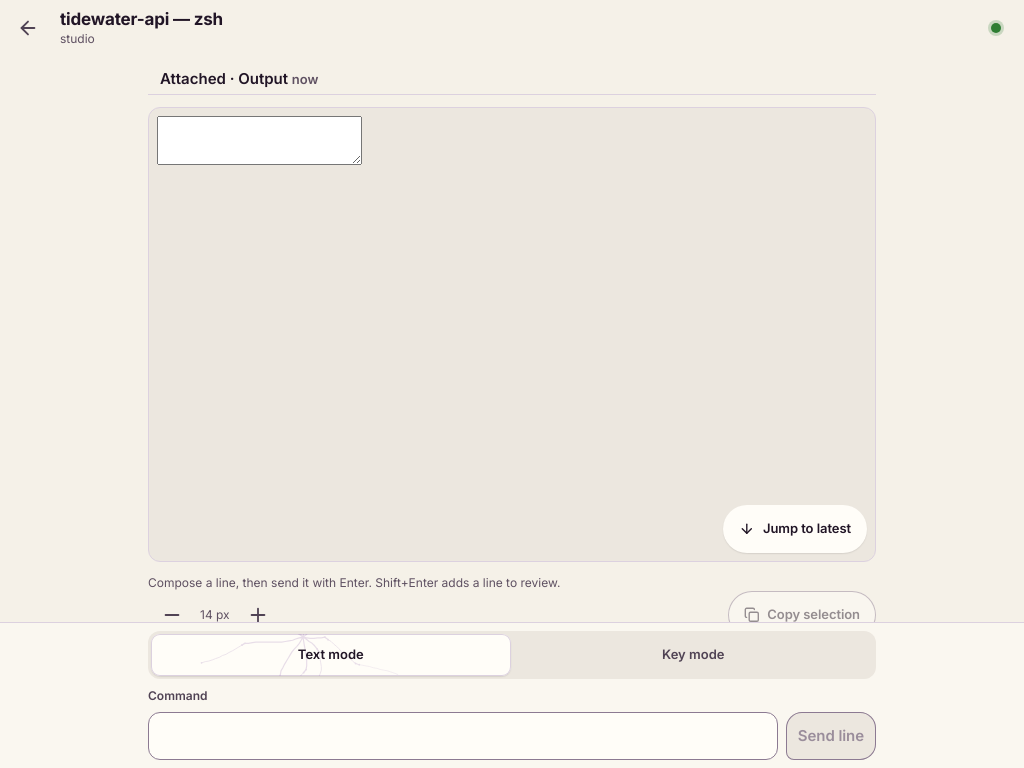
Scenario: the output follows new rows unless the person scrolled back to read, and Jump to latest returns to them
What coordinates should you click on to do the following:
click the button "Jump to latest"
I would click on:
 (795, 529)
Its box is x1=723 y1=505 x2=867 y2=553.
Wait 300 ms
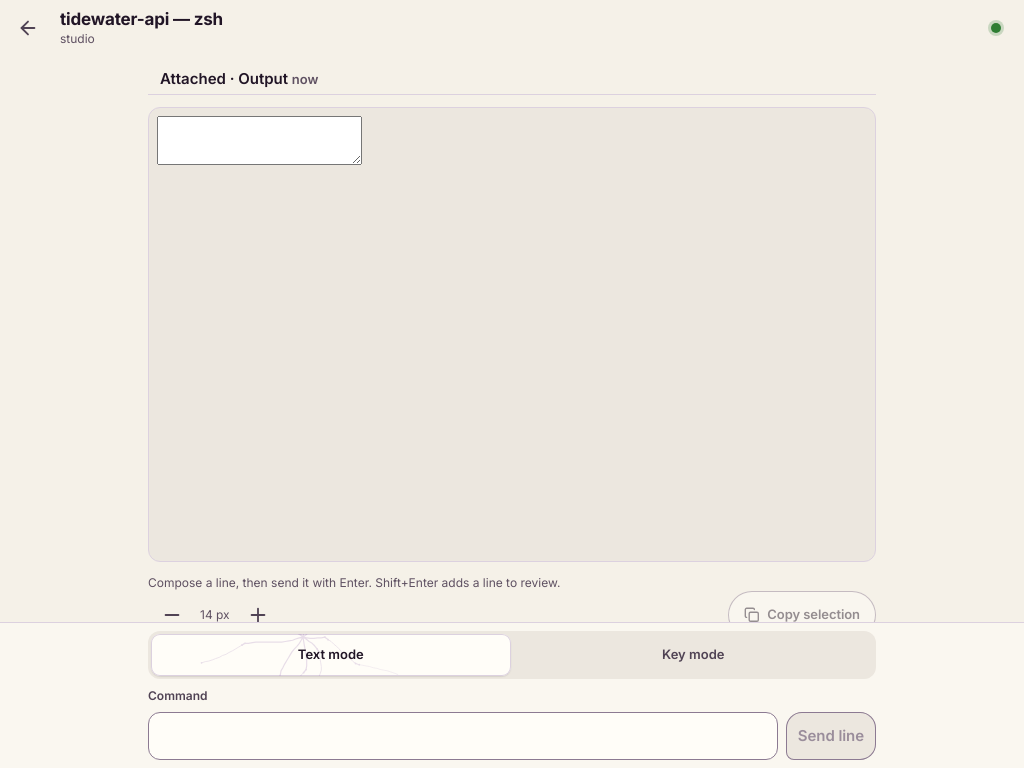
Now the button "Jump to latest" is gone
